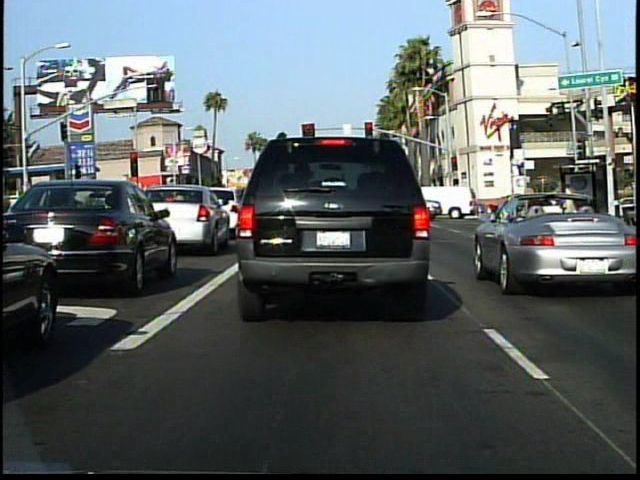person: (556, 179, 578, 232)
